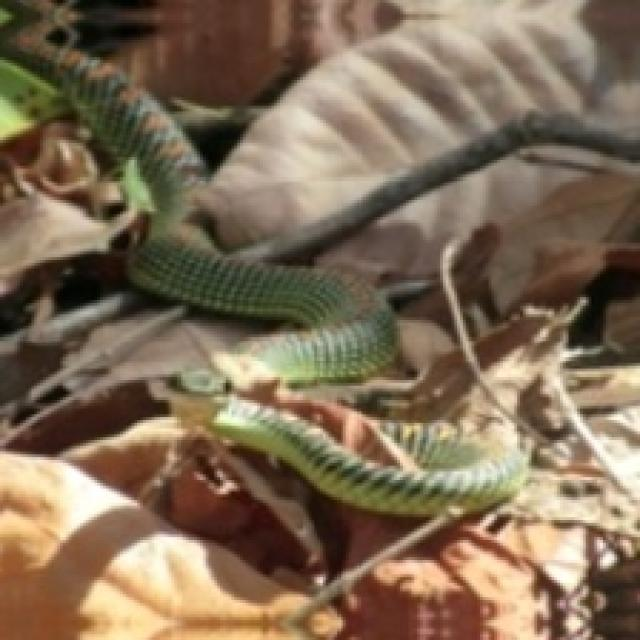paradise tree snake: (0, 0, 637, 537), (0, 0, 526, 514)
